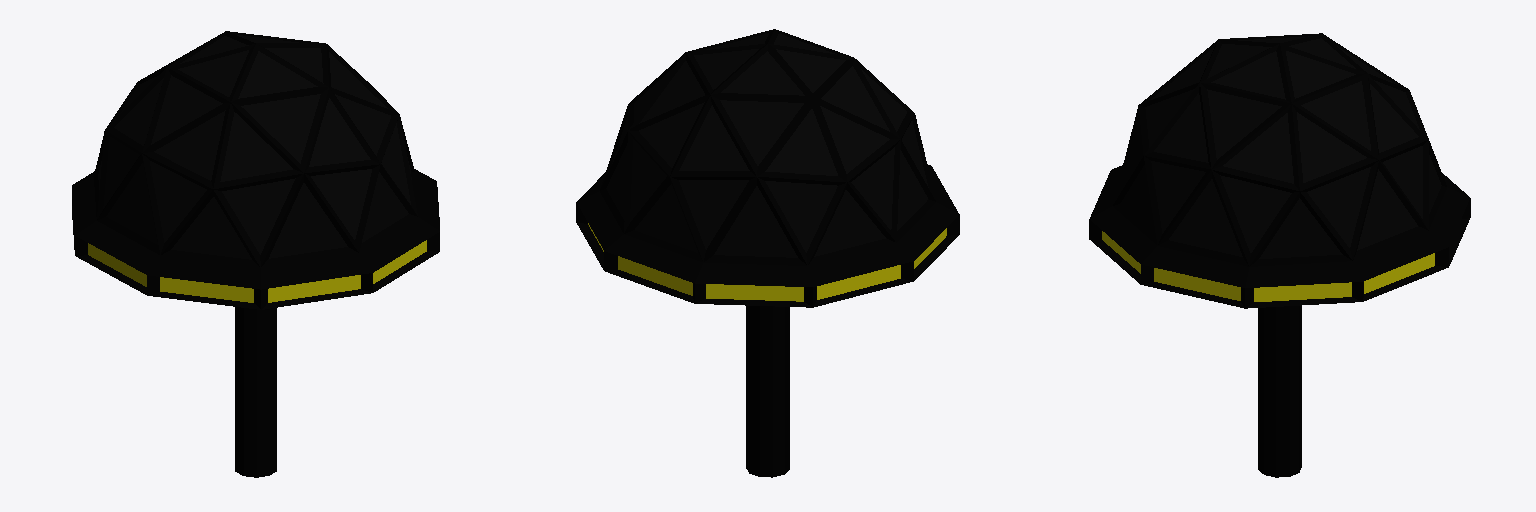
File: PalazzoSferico.obj
The picture shows the model from 3 angles: view 1: azimuth 30°, elevation 25°; view 2: azimuth 150°, elevation 25°; view 3: azimuth 270°, elevation 25°; orthographic projection.
Parts seen in each view (by area): view 1: Icosphere; view 2: Icosphere; view 3: Icosphere.
Boxes of the visible parts, x1=… form: Icosphere: x1=72, y1=31, x2=439, y2=477; Icosphere: x1=576, y1=29, x2=959, y2=477; Icosphere: x1=1089, y1=33, x2=1470, y2=477.
Size of the model in its own units: 15.95 by 19.78 by 16.08.